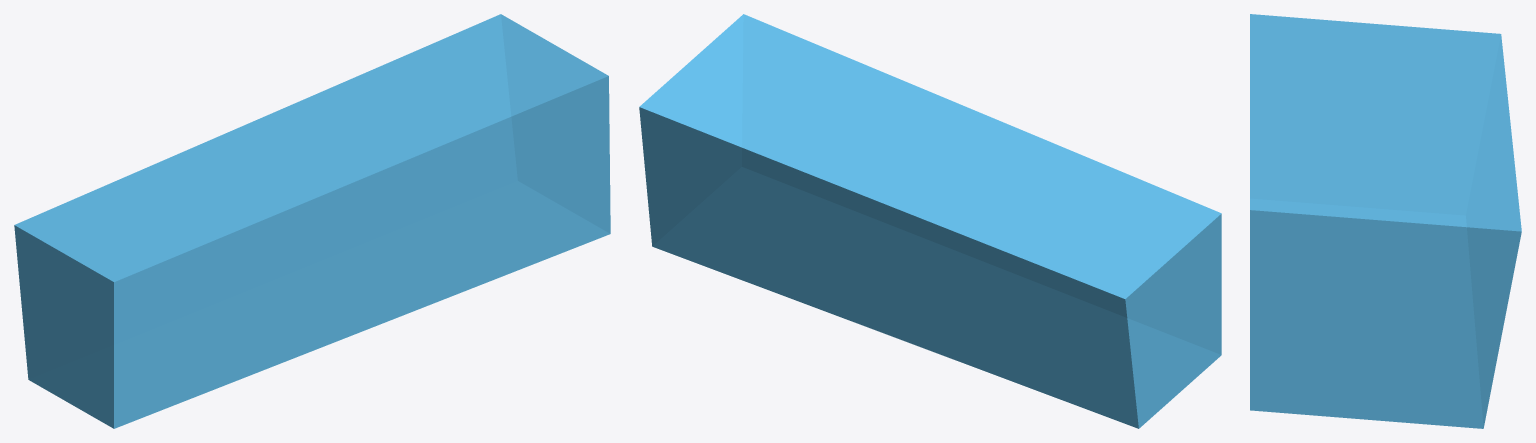
File: Event_421364160_HErechit_26.fbx
3 renders of one model, left to right at view 1: azimuth 30°, elevation 25°; view 2: azimuth 150°, elevation 25°; view 3: azimuth 270°, elevation 25°, orthographic. The views are drawn at different scales.
Visible parts, largest first — view 1: Model; view 2: Model; view 3: Model.
Part boxes in pixels (bbox=[...]): Model: bbox=[14, 14, 610, 428]; Model: bbox=[639, 14, 1221, 428]; Model: bbox=[1250, 14, 1521, 428].
Size of the model in its own units: 0.8385 by 0.3968 by 0.3159.
